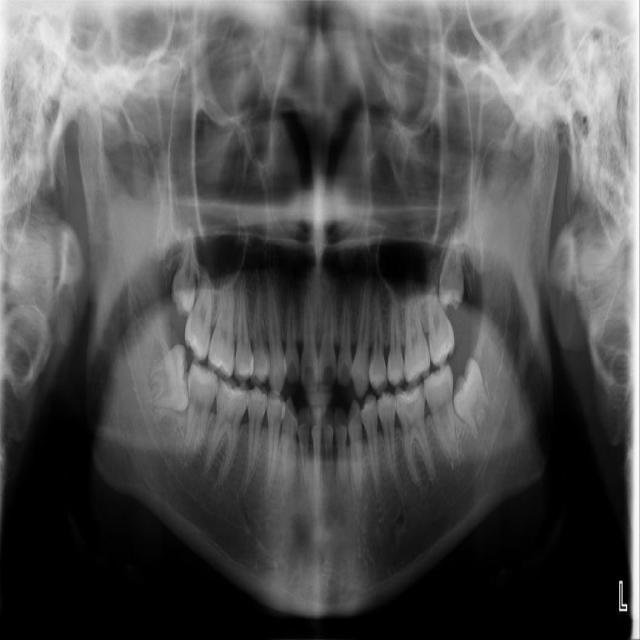3M ESPE Implant: (169, 225, 202, 317)
73: (606, 534, 612, 545)
BioHorizons Implant: (422, 259, 457, 367)
BioLife Implant: (437, 230, 465, 309)
Biomet 3i Implant: (443, 356, 498, 441)
Blue Sky Bio Implant: (421, 362, 460, 462)
Caries: (183, 269, 215, 362)
Implant: (176, 357, 222, 464)
Keystone Dental Implant: (146, 345, 191, 413)
